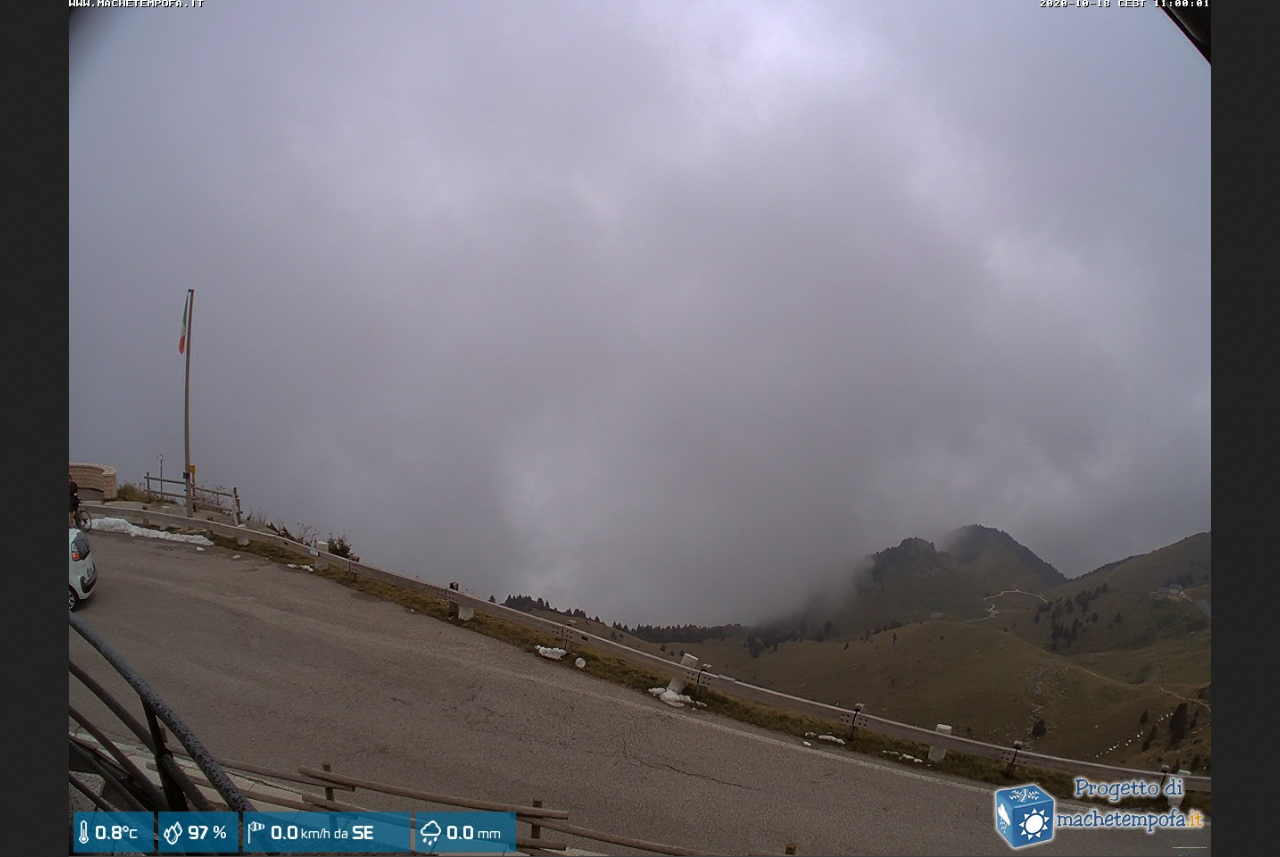no: (175, 286, 200, 359)
